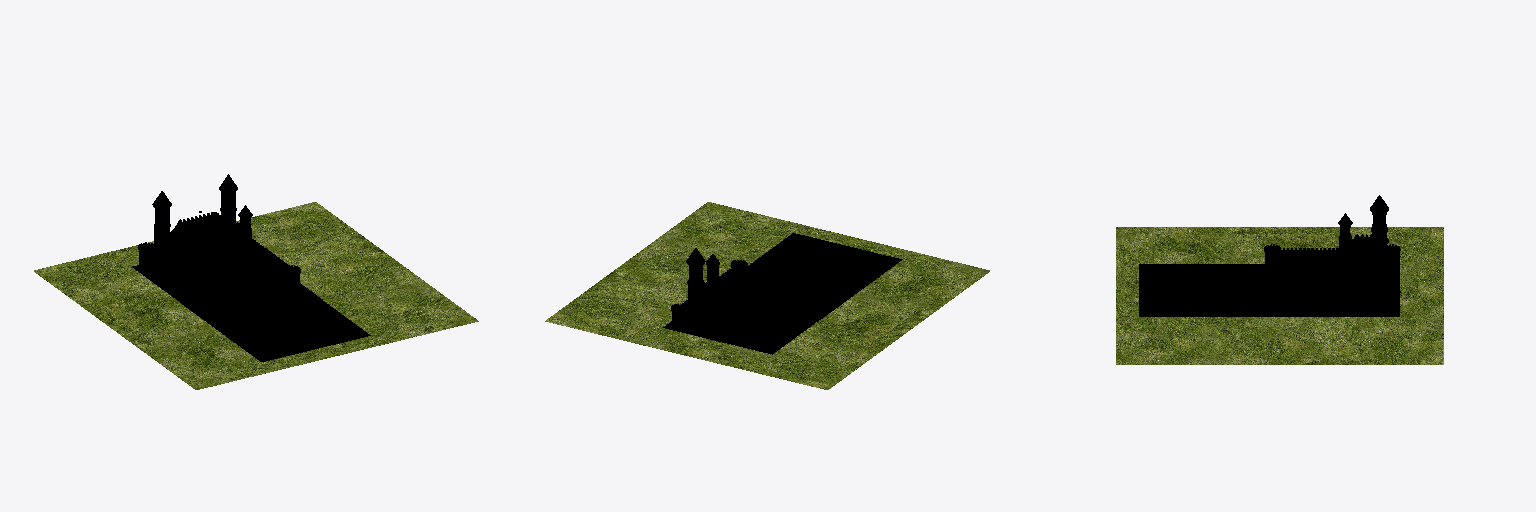
3 renders of one model, left to right at view 1: azimuth 30°, elevation 25°; view 2: azimuth 150°, elevation 25°; view 3: azimuth 270°, elevation 25°, orthographic.
Visible parts, largest first — view 1: Plane, Ground_and_Fountain.001, Castle_Exterior, Castle_Interior, Towers_Doors_and_Windows, Ground_and_Fountain; view 2: Plane, Castle_Exterior, Ground_and_Fountain.001, Towers_Doors_and_Windows, Castle_Interior, Ground_and_Fountain; view 3: Plane, Castle_Exterior, Ground_and_Fountain.001, Ground_and_Fountain, Towers_Doors_and_Windows, Castle_Interior.
Part boxes in pixels (bbox=[...]): Plane: bbox=[34, 202, 478, 389]; Ground_and_Fountain.001: bbox=[181, 300, 370, 361]; Castle_Exterior: bbox=[138, 222, 300, 313]; Castle_Interior: bbox=[162, 211, 254, 281]; Towers_Doors_and_Windows: bbox=[152, 174, 255, 300]; Ground_and_Fountain: bbox=[132, 265, 322, 326]; Plane: bbox=[545, 202, 989, 389]; Castle_Exterior: bbox=[671, 260, 833, 351]; Ground_and_Fountain.001: bbox=[747, 233, 902, 318]; Towers_Doors_and_Windows: bbox=[686, 248, 786, 326]; Castle_Interior: bbox=[687, 273, 786, 326]; Ground_and_Fountain: bbox=[663, 289, 853, 354]; Plane: bbox=[1116, 227, 1443, 364]; Castle_Exterior: bbox=[1264, 244, 1400, 313]; Ground_and_Fountain.001: bbox=[1139, 264, 1235, 316]; Ground_and_Fountain: bbox=[1236, 264, 1399, 316]; Towers_Doors_and_Windows: bbox=[1333, 195, 1388, 292]; Castle_Interior: bbox=[1337, 234, 1387, 291].
Size of the model in its own units: 150 by 40.51 by 150.
6 materials, 1 textured.